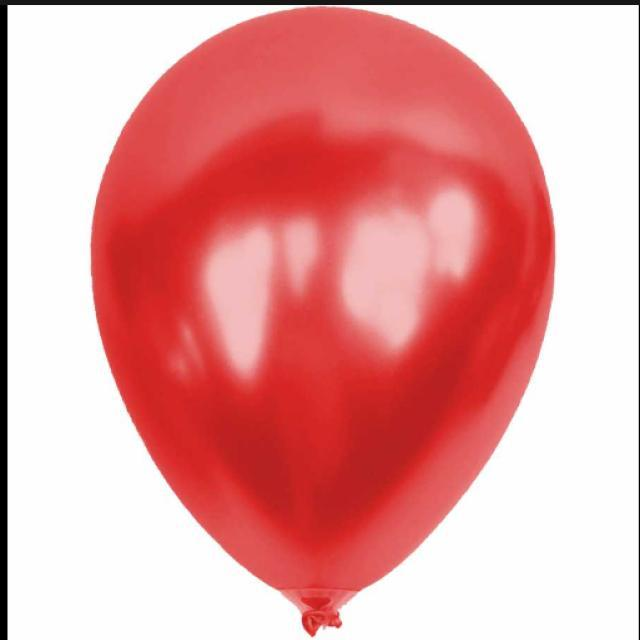red: (89, 5, 556, 637)
